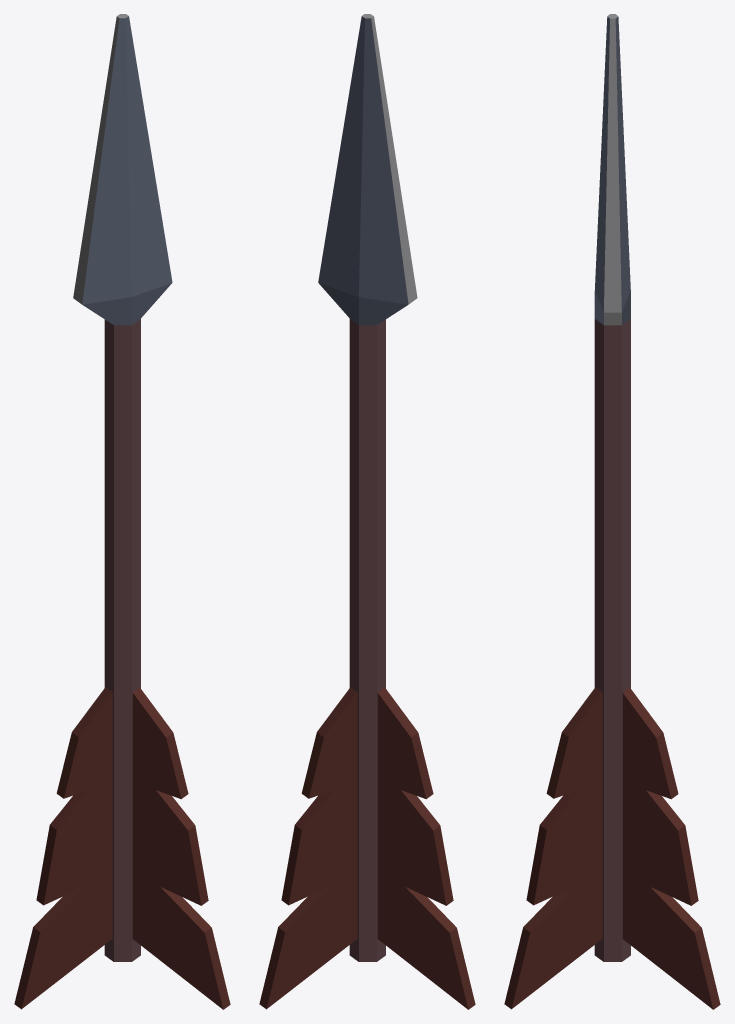
Rendered from Dart.glb.
3 views of the same model, side by side, from view 1: azimuth 30°, elevation 25°; view 2: azimuth 150°, elevation 25°; view 3: azimuth 270°, elevation 25° (orthographic).
Parts seen in each view (by area): view 1: Dart; view 2: Dart; view 3: Dart.
Part boxes in pixels (x1,y1,x2,y2): Dart: [14, 14, 230, 1009]; Dart: [259, 14, 475, 1009]; Dart: [504, 14, 720, 1009].
Size of the model in its own units: 0.0203 by 0.1151 by 0.0234.
